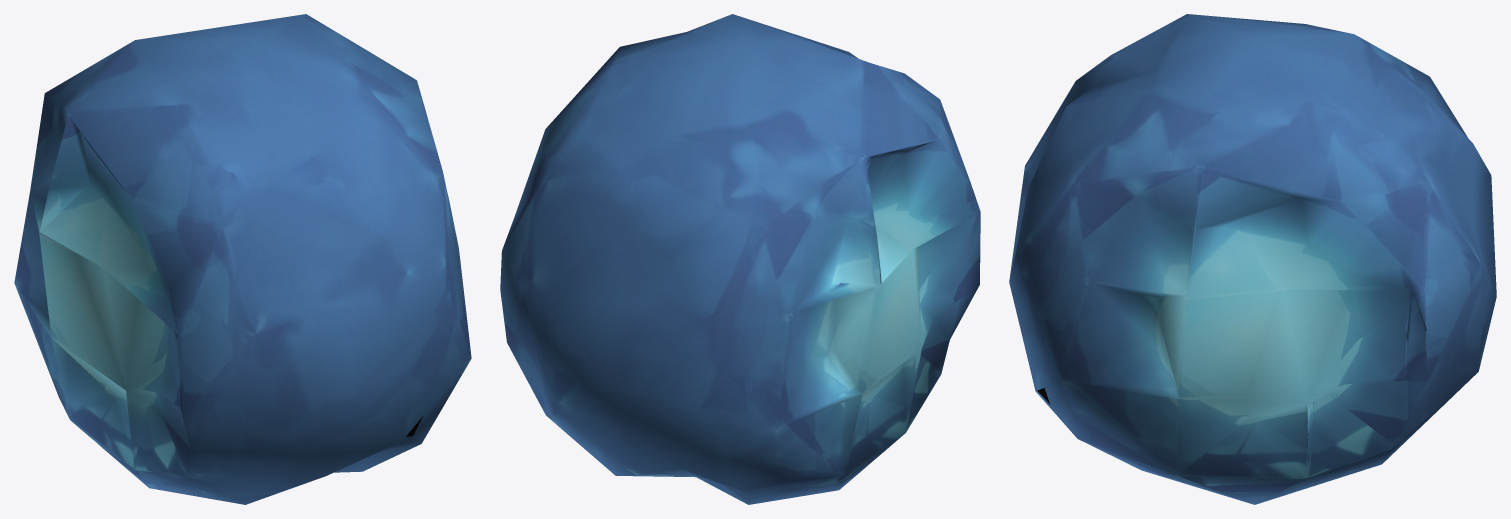
File: M_Water_Bullet.obj
3 views of the same model, side by side, from view 1: azimuth 30°, elevation 25°; view 2: azimuth 150°, elevation 25°; view 3: azimuth 270°, elevation 25° (orthographic).
Parts seen in each view (by area): view 1: tripo_node_bc0d0f86-df1b-48f5-a408-9f6486bdb8c7; view 2: tripo_node_bc0d0f86-df1b-48f5-a408-9f6486bdb8c7; view 3: tripo_node_bc0d0f86-df1b-48f5-a408-9f6486bdb8c7.
Boxes of the visible parts, bbox=[...] form: tripo_node_bc0d0f86-df1b-48f5-a408-9f6486bdb8c7: bbox=[14, 14, 471, 504]; tripo_node_bc0d0f86-df1b-48f5-a408-9f6486bdb8c7: bbox=[500, 14, 980, 504]; tripo_node_bc0d0f86-df1b-48f5-a408-9f6486bdb8c7: bbox=[1009, 14, 1496, 504].
Size of the model in its own units: 0.7871 by 0.94 by 0.9777.
Materials: 1 (1 with a texture image).
